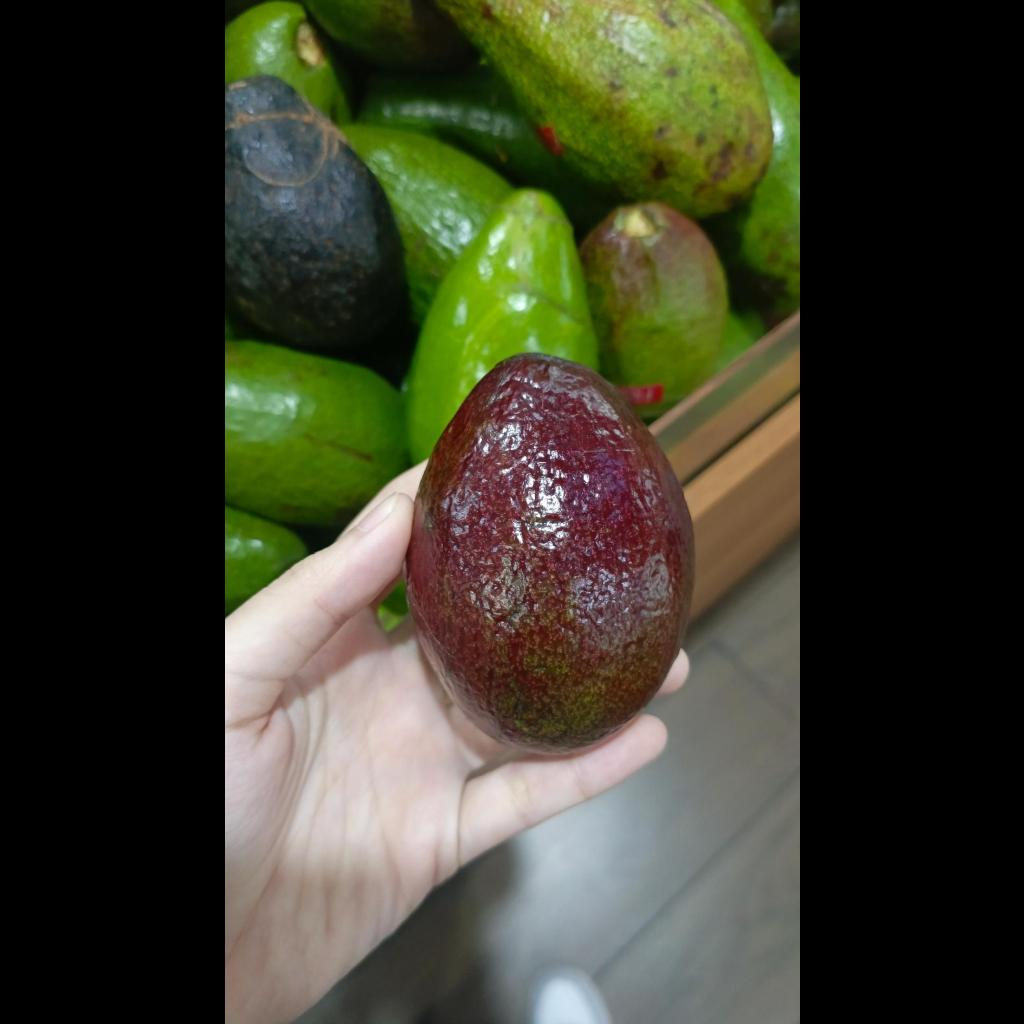anthracnose: (405, 354, 693, 752), (224, 75, 403, 351)
